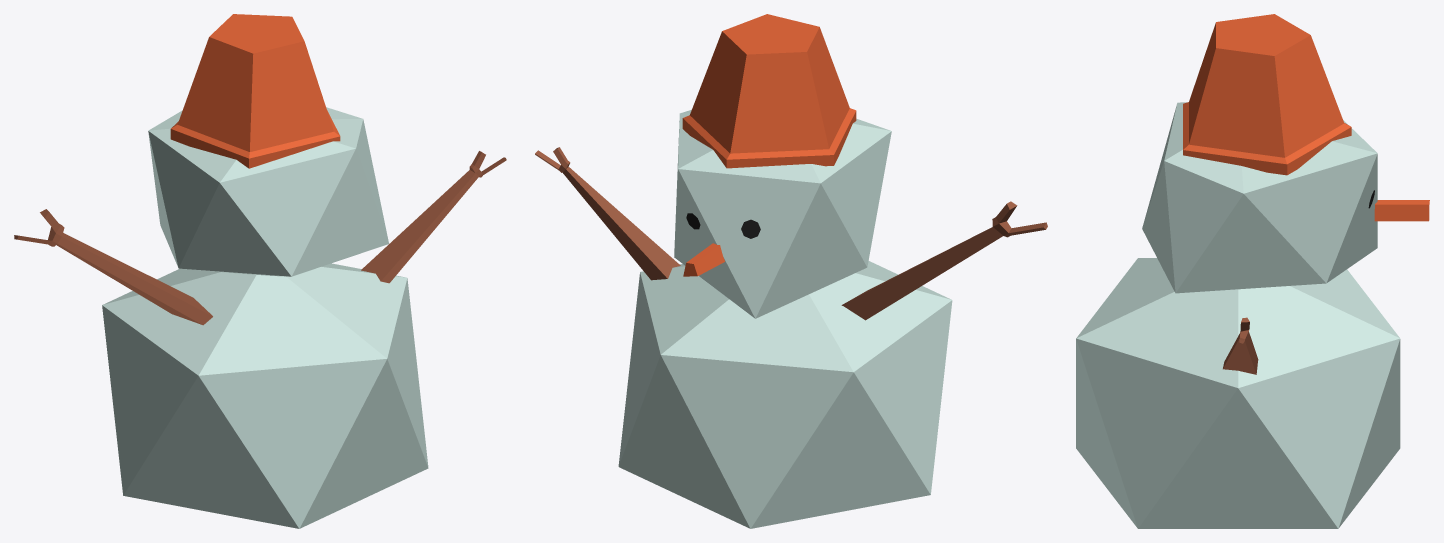
Rendered from snow man.002.fbx.
3 renders of one model, left to right at view 1: azimuth 30°, elevation 25°; view 2: azimuth 150°, elevation 25°; view 3: azimuth 270°, elevation 25°, orthographic. The views are drawn at different scales.
Parts seen in each view (by area): view 1: snow man.002; view 2: snow man.002; view 3: snow man.002.
Boxes of the visible parts, x1,y1,x2,y2 form: snow man.002: [14, 14, 506, 528]; snow man.002: [535, 14, 1047, 528]; snow man.002: [1076, 14, 1429, 528].
Size of the model in its own units: 321 by 294 by 191.
